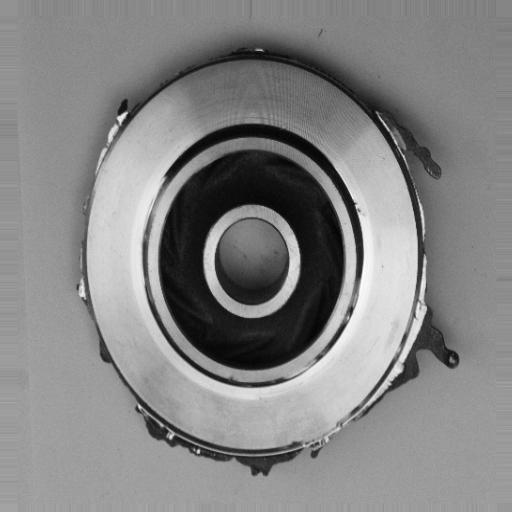casting_with_burr: (72, 41, 461, 479)
scratch: (139, 162, 174, 261), (274, 352, 333, 394)
